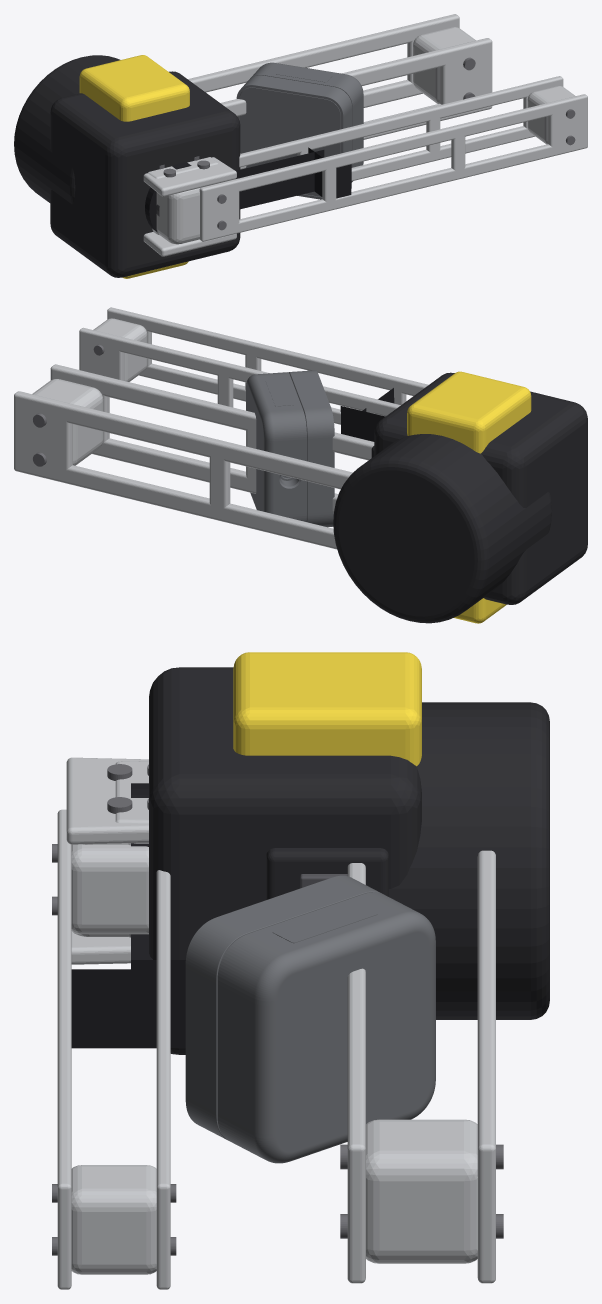
Rendered from arm.glb.
3 renders of one model, top to bottom at view 1: azimuth 30°, elevation 25°; view 2: azimuth 150°, elevation 25°; view 3: azimuth 270°, elevation 25°, orthographic. The views are drawn at different scales.
Parts seen in each view (by area): view 1: b4, b1, b3, b8, b2, b6; view 2: b3, b8, b1, b4, b6; view 3: b8, b3, b1, b4, b6, b2.
Boxes of the visible parts, x1,y1,x2,y2 form: b4: [148, 76, 587, 241]; b1: [50, 71, 240, 277]; b3: [14, 14, 492, 203]; b8: [79, 55, 363, 278]; b2: [143, 157, 236, 256]; b6: [145, 147, 351, 231]; b3: [14, 364, 552, 623]; b8: [246, 370, 531, 623]; b1: [374, 372, 587, 604]; b4: [79, 307, 428, 424]; b6: [340, 388, 394, 441]; b8: [185, 652, 435, 1163]; b3: [340, 702, 549, 1283]; b1: [149, 667, 421, 1054]; b4: [52, 761, 176, 1289]; b6: [71, 783, 185, 1048]; b2: [66, 757, 148, 964].
Size of the model in its own units: 0.1925 by 0.073 by 0.0912.
